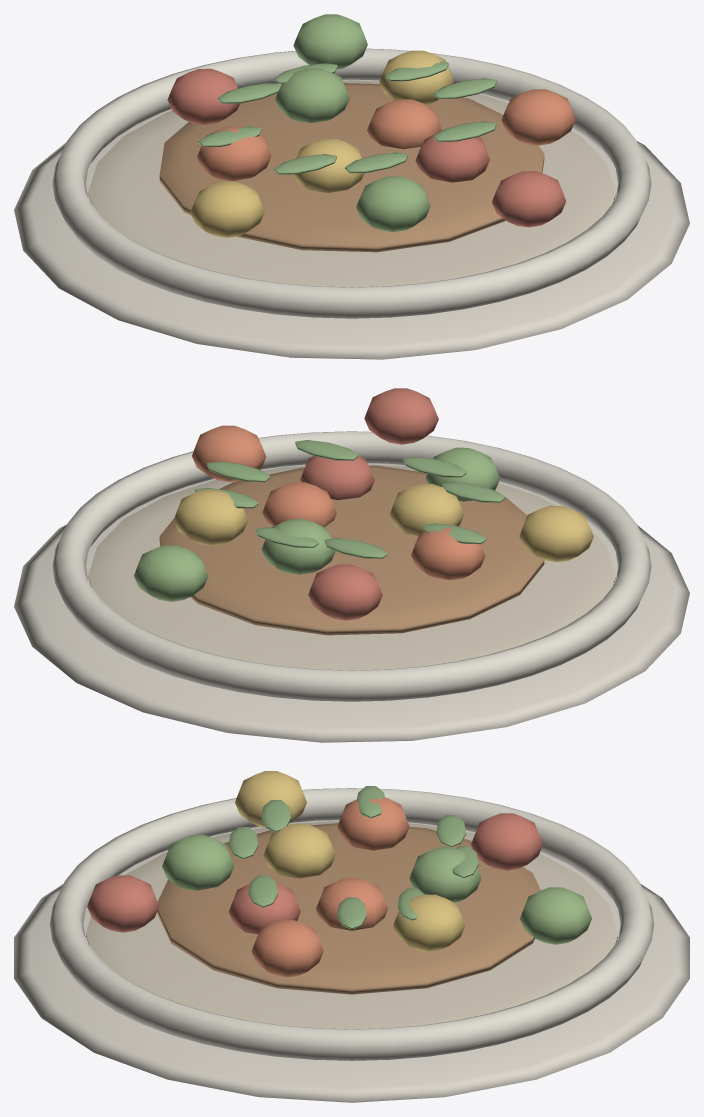
File: mise-plated-dish.glb
3 views of the same model, one above another, from view 1: azimuth 30°, elevation 25°; view 2: azimuth 150°, elevation 25°; view 3: azimuth 270°, elevation 25° (orthographic).
Parts seen in each view (by area): view 1: mise-plated-dish; view 2: mise-plated-dish; view 3: mise-plated-dish.
Part boxes in pixels (x1=…): mise-plated-dish: x1=14, y1=14, x2=689, y2=359; mise-plated-dish: x1=14, y1=388, x2=689, y2=742; mise-plated-dish: x1=14, y1=771, x2=689, y2=1102.
Bounding box in the file's own units: 1.34 × 0.29 × 1.33.
